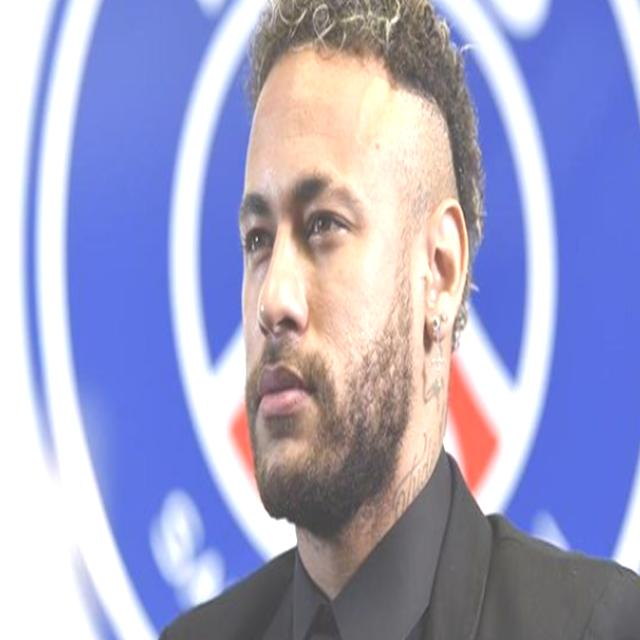neymar: (238, 2, 472, 498)
